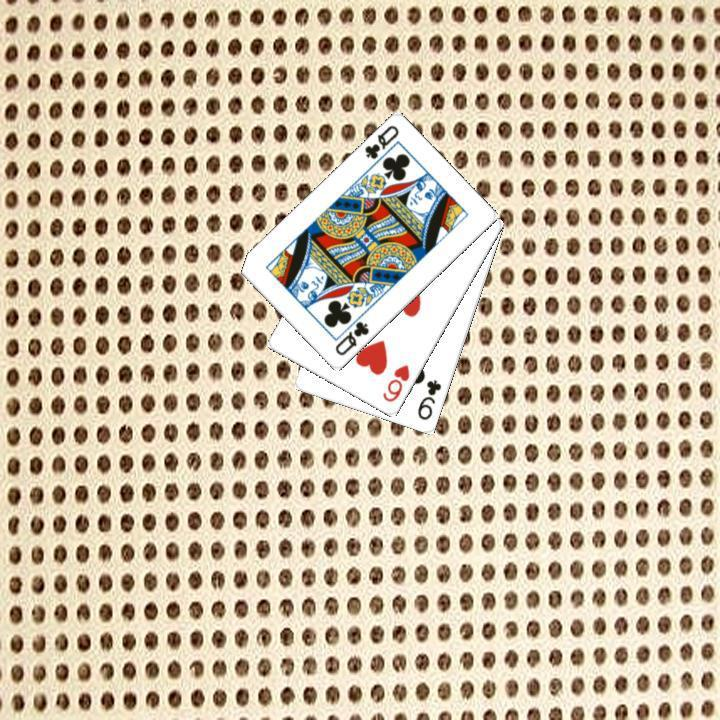6: (378, 361, 412, 404)
9: (413, 375, 443, 422)
Q: (330, 317, 371, 358), (360, 121, 401, 162)
